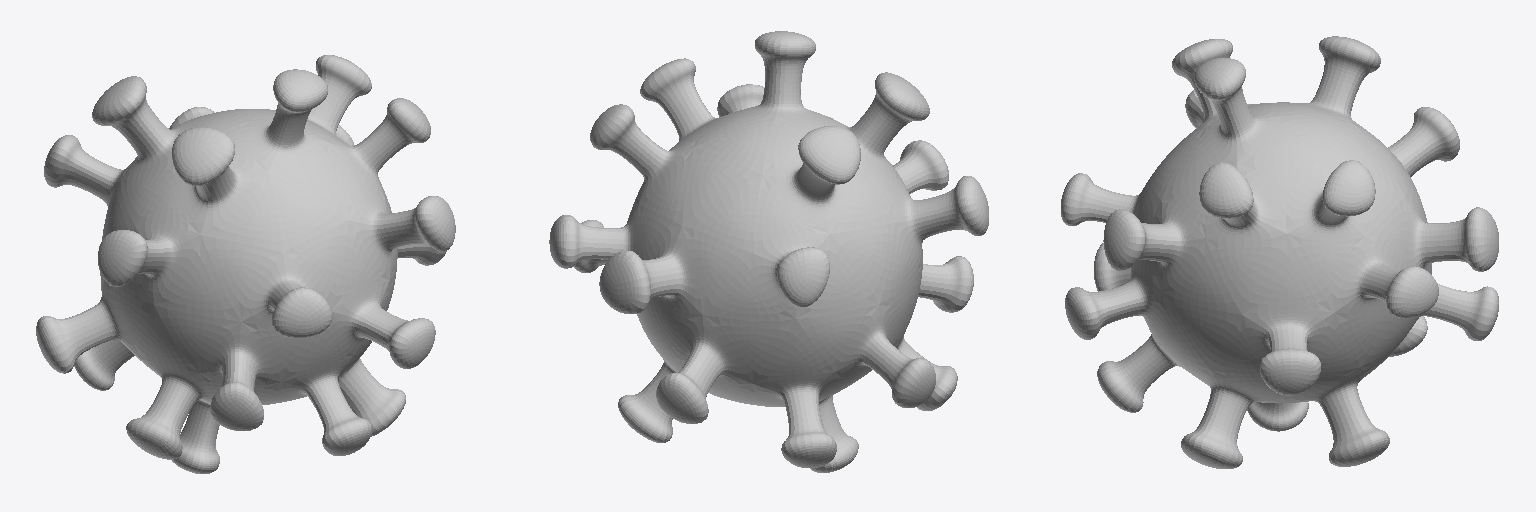
Rendered from Virus.obj.
3 renders of one model, left to right at view 1: azimuth 30°, elevation 25°; view 2: azimuth 150°, elevation 25°; view 3: azimuth 270°, elevation 25°, orthographic.
Parts seen in each view (by area): view 1: Icosphere.002; view 2: Icosphere.002; view 3: Icosphere.002.
Part boxes in pixels (left/top/right/bottom): Icosphere.002: left=36, top=55, right=455, bottom=473; Icosphere.002: left=549, top=31, right=988, bottom=472; Icosphere.002: left=1061, top=36, right=1498, bottom=468.
Size of the model in its own units: 1.27 by 1.28 by 1.27.